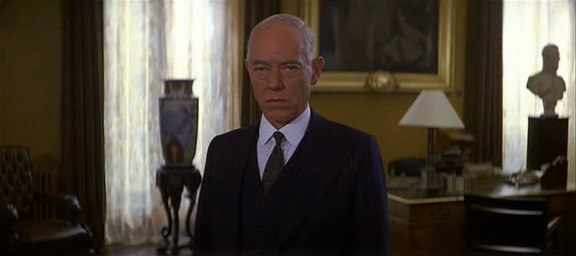face: (249, 50, 304, 123)
mcu: (1, 1, 576, 256)
person: (191, 11, 390, 256)
